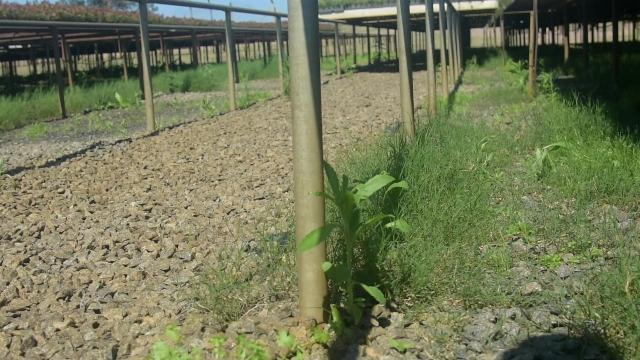MalezaMontesDelPlata: (363, 130, 492, 298), (191, 198, 296, 334), (537, 72, 640, 206), (324, 160, 405, 323), (143, 316, 324, 360), (577, 258, 640, 360)
